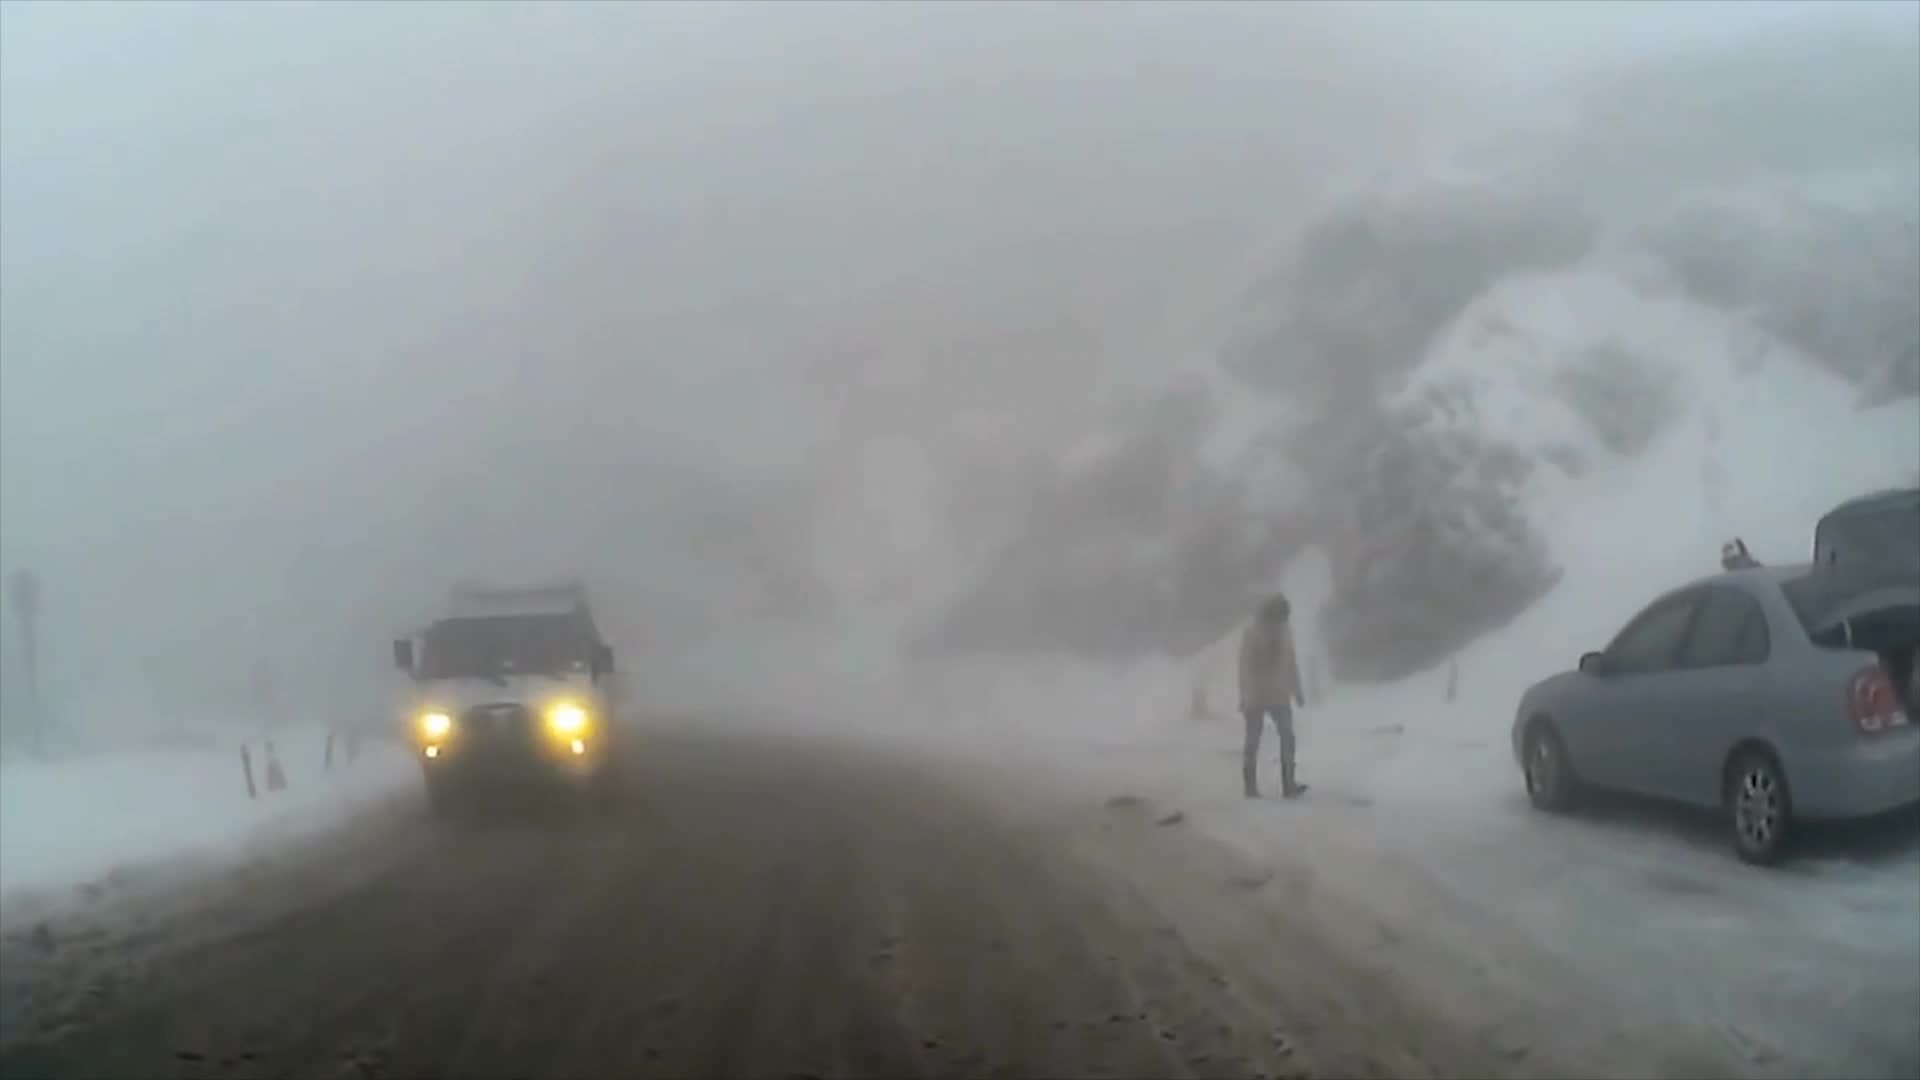pedestrian: (1234, 587, 1307, 800)
vehicle: (1508, 481, 1920, 870), (389, 583, 620, 831)
